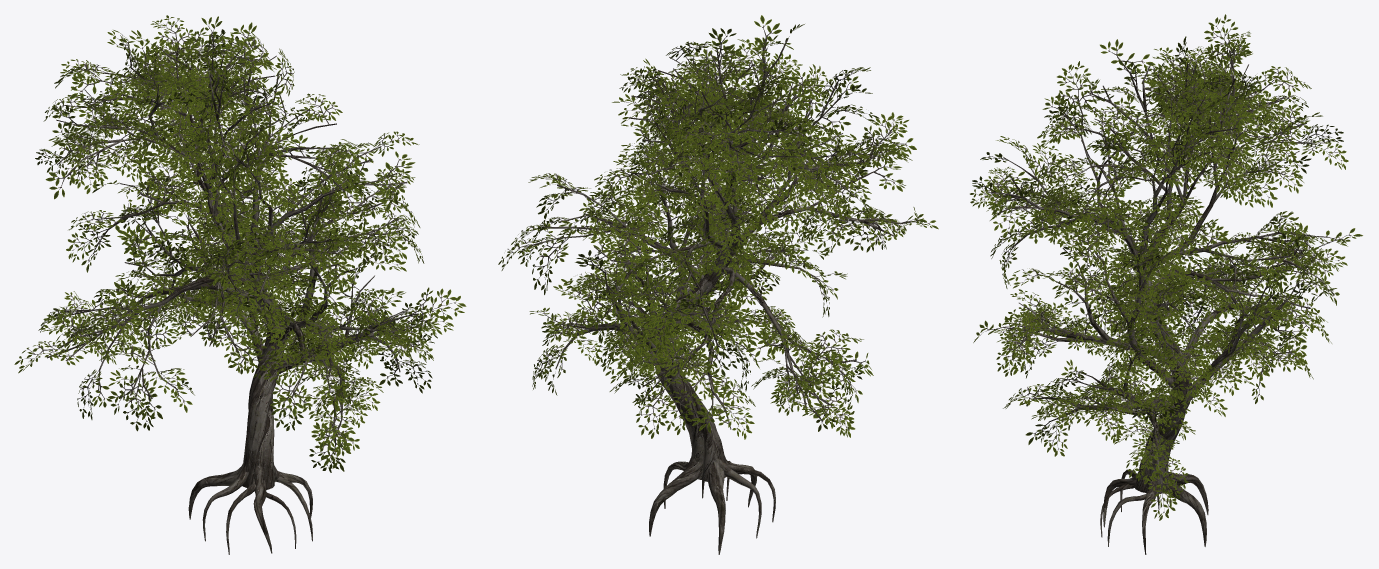
File: Tree1-2-Leaves.fbx
3 renders of one model, left to right at view 1: azimuth 30°, elevation 25°; view 2: azimuth 150°, elevation 25°; view 3: azimuth 270°, elevation 25°, orthographic. The views are drawn at different scales.
Parts seen in each view (by area): view 1: Tree1-2-Leaves_LOD0; view 2: Tree1-2-Leaves_LOD0; view 3: Tree1-2-Leaves_LOD0.
Boxes of the visible parts, <box> form: Tree1-2-Leaves_LOD0: <box>14,15,466,554</box>; Tree1-2-Leaves_LOD0: <box>498,15,938,554</box>; Tree1-2-Leaves_LOD0: <box>970,14,1362,554</box>.
Size of what is drawn, in the model's own units: 6.49 by 6.35 by 8.48.
